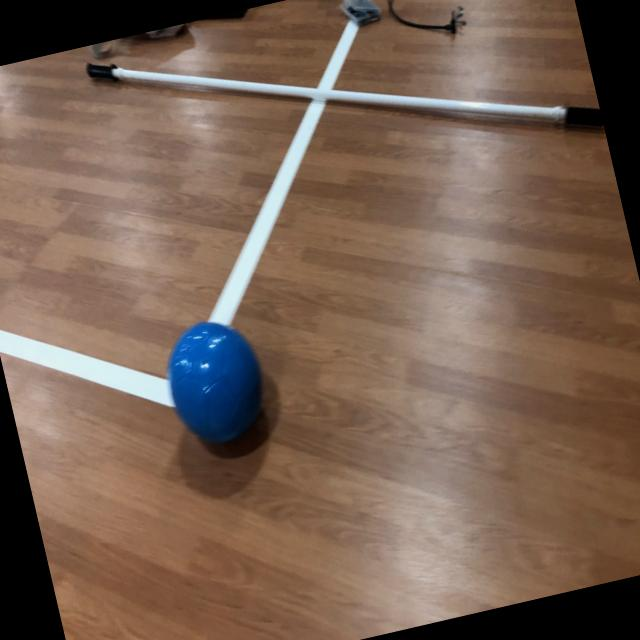blue_ball: (156, 306, 278, 456)
